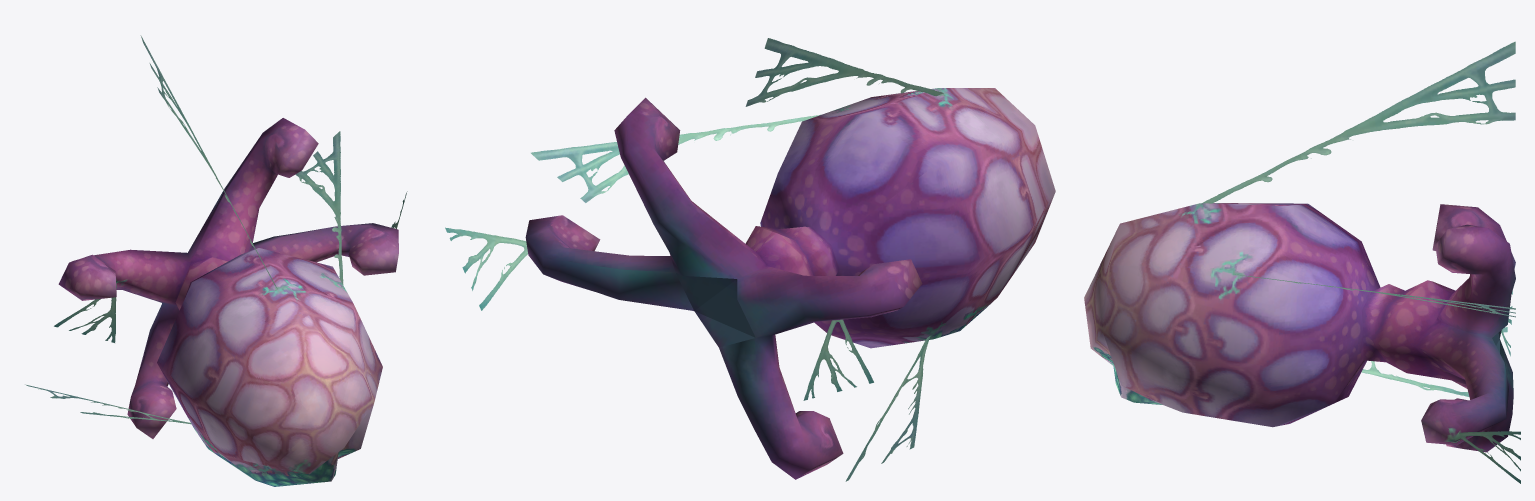
3 renders of one model, left to right at view 1: azimuth 30°, elevation 25°; view 2: azimuth 150°, elevation 25°; view 3: azimuth 270°, elevation 25°, orthographic. The views are drawn at different scales.
Parts seen in each view (by area): view 1: Object02; view 2: Object02; view 3: Object02.
Boxes of the visible parts, box(x1,y1,x2,y2) form: Object02: box(25, 35, 407, 486); Object02: box(445, 38, 1055, 481); Object02: box(1084, 41, 1520, 483).
Size of the model in its own units: 2 by 1.9 by 1.71.
